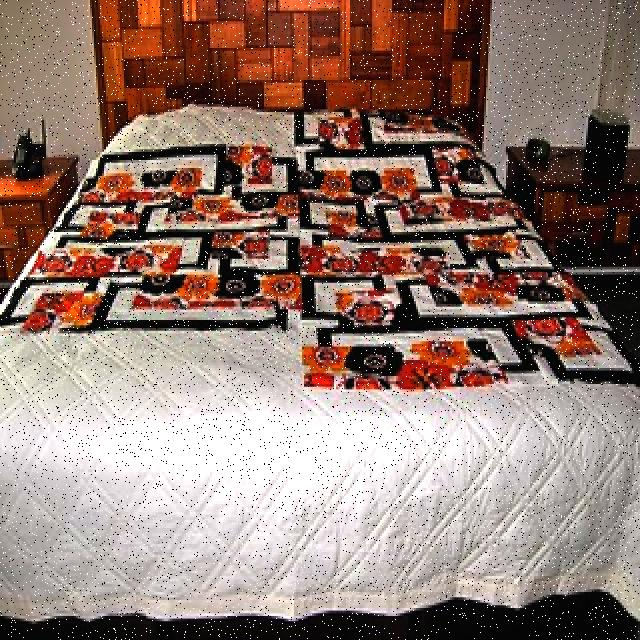bed: (6, 109, 627, 578)
